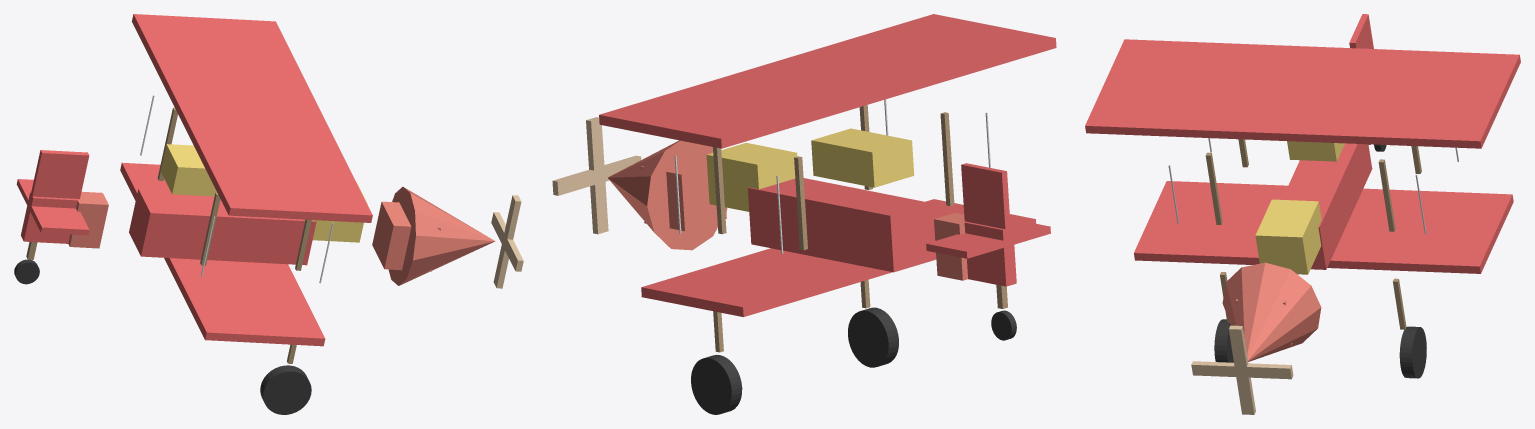
The model's file is newPlane.glb.
3 renders of one model, left to right at view 1: azimuth 30°, elevation 25°; view 2: azimuth 150°, elevation 25°; view 3: azimuth 270°, elevation 25°, orthographic. The views are drawn at different scales.
Visible parts, largest first — view 1: UpperWing, LowerWing, Fuselage, Nose, VerticalStabilizer, Cockpit, FuselageConnection, RightWheel, HorizontalStabilizer, TailConnection, Tail, FrontSection (+4 smaller); view 2: UpperWing, Fuselage, LowerWing, Nose, Cockpit, FrontSection, VerticalStabilizer, FuselageConnection, RightWheel, LeftWheel, Tail, HorizontalStabilizer (+7 smaller); view 3: UpperWing, LowerWing, Nose, Fuselage, FrontSection, PropellerBlades, LeftWheel, PropellerBlades2, Cockpit, RightWheel, VerticalStabilizer, FrontStrutLeft (+1 smaller).
Part boxes in pixels (box(x1,y1,x2,y2)): UpperWing: box(132, 14, 372, 222); LowerWing: box(120, 162, 325, 346); Fuselage: box(129, 189, 316, 265); Nose: box(388, 187, 495, 285); VerticalStabilizer: box(31, 150, 89, 198); Cockpit: box(160, 144, 216, 196); FuselageConnection: box(372, 201, 440, 271); RightWheel: box(260, 365, 311, 414); HorizontalStabilizer: box(16, 179, 89, 235); TailConnection: box(68, 191, 108, 248); Tail: box(21, 192, 80, 243); FrontSection: box(304, 181, 367, 242); UpperWing: box(599, 14, 1056, 148); Fuselage: box(747, 178, 935, 272); LowerWing: box(641, 199, 1036, 317); Nose: box(608, 140, 727, 250); Cockpit: box(811, 128, 914, 187); FrontSection: box(706, 142, 797, 211); VerticalStabilizer: box(961, 163, 1010, 229); FuselageConnection: box(641, 159, 726, 231); RightWheel: box(848, 307, 898, 367); LeftWheel: box(691, 354, 742, 414); Tail: box(963, 221, 1016, 286); HorizontalStabilizer: box(926, 218, 1050, 258); UpperWing: box(1085, 39, 1520, 148); LowerWing: box(1134, 181, 1513, 273); Nose: box(1222, 262, 1321, 361); Fuselage: box(1282, 143, 1372, 269); FrontSection: box(1255, 199, 1321, 274); PropellerBlades: box(1191, 361, 1293, 379); LeftWheel: box(1399, 326, 1426, 378); PropellerBlades2: box(1228, 325, 1255, 414); Cockpit: box(1287, 141, 1344, 161); RightWheel: box(1214, 319, 1233, 362); VerticalStabilizer: box(1349, 14, 1373, 48); FrontStrutLeft: box(1378, 159, 1395, 231).
Bounding box in the file's own units: 4.09 × 2.64 × 3.38.
